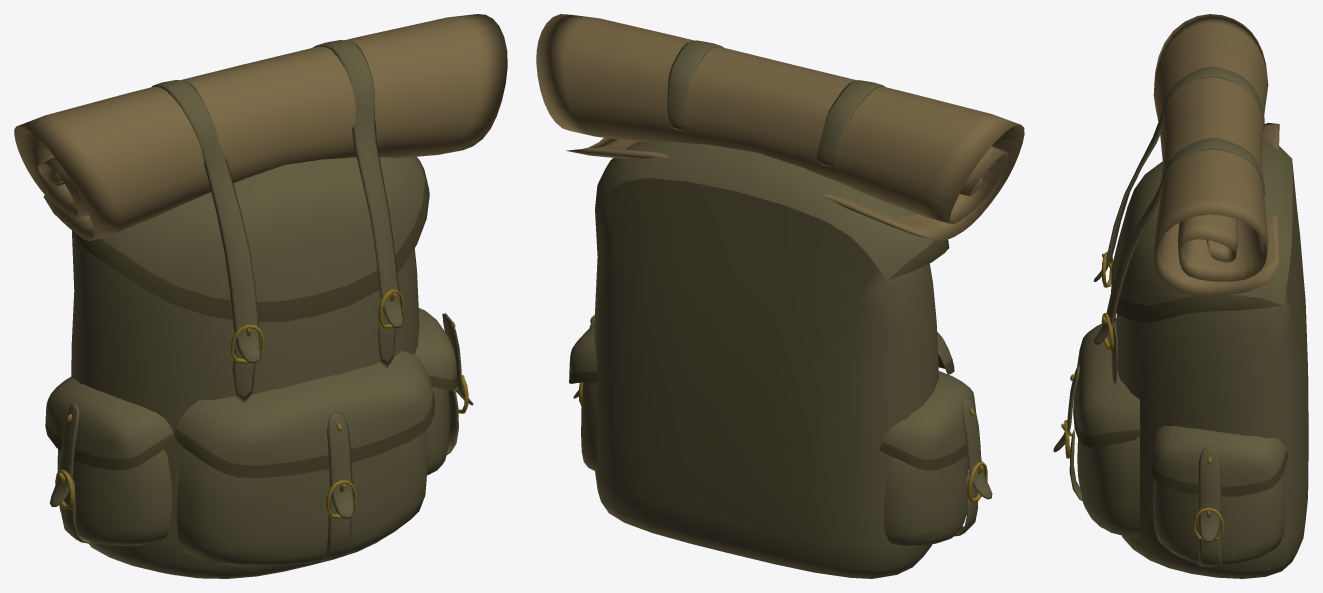
The model's file is Backpack.fbx.
The picture shows the model from 3 angles, left to right: view 1: azimuth 30°, elevation 25°; view 2: azimuth 150°, elevation 25°; view 3: azimuth 270°, elevation 25°; orthographic projection. The views are drawn at different scales.
Visible parts, largest first — view 1: Backpack, SleepBag; view 2: Backpack, SleepBag; view 3: Backpack, SleepBag.
Part boxes in pixels (x1,y1,x2,y2): Backpack: (45,40,473,578); SleepBag: (14,14,507,240); Backpack: (569,40,992,578); SleepBag: (536,14,1024,240); Backpack: (1053,66,1308,578); SleepBag: (1153,14,1279,296).
Bounding box in the file's own units: 320 × 311 × 172.
